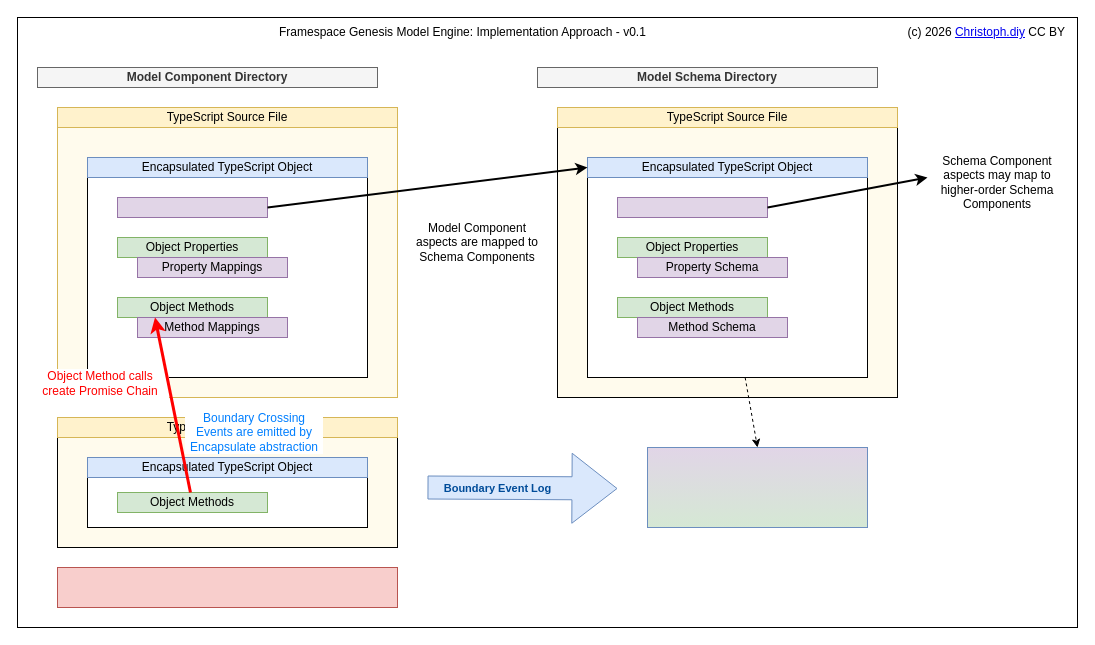
This 1095x645 diagram has some shape labels left out. The shapes that lost their labels are listed below. From the top down, each one's box as (x1, y1, x2, y2) in pixels, then its label:
(116, 196, 268, 218): Object Mappings
(616, 196, 768, 218): Schema Definition
(646, 446, 868, 528): Schema-based, Event-hydrated Interactive Visualization
(56, 566, 398, 608): Model executes by following codepath
